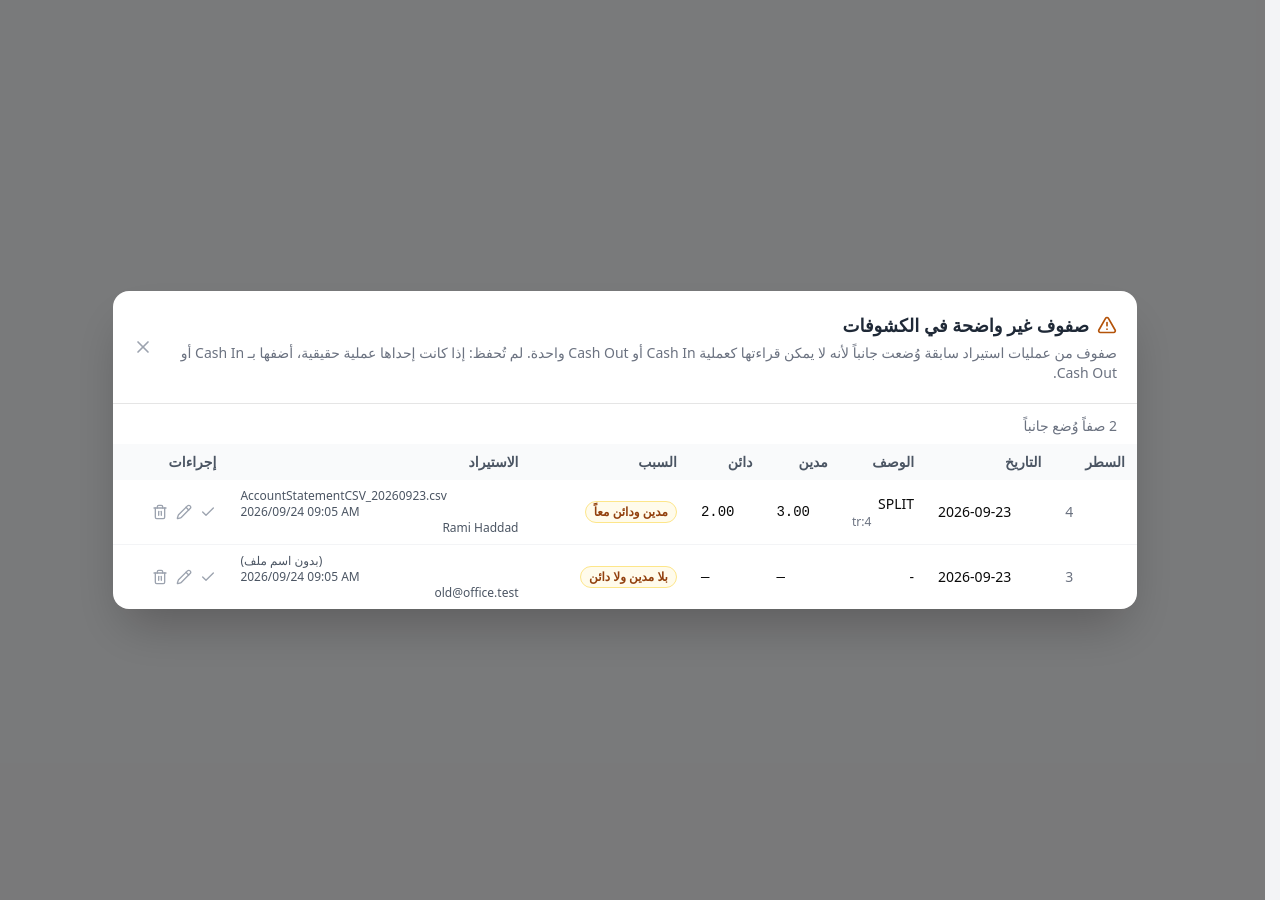
it: row actions: accept as is, discard, or correct and add (user's request, 2026-09-29) › accept as is: an inline confirmation, then it's saved as printed (the larger of debit/credit wins) and the row is gone
Expected: the number of rows with test id "ambiguous-row" is 2, [113,480,1137,544]; [113,544,1137,609]
What coordinates should you click on to do the following:
click the button with test id "ambiguous-accept" in the row of "SPLIT"
I would click on:
 (208, 512)
Its box is [200,504,216,520].
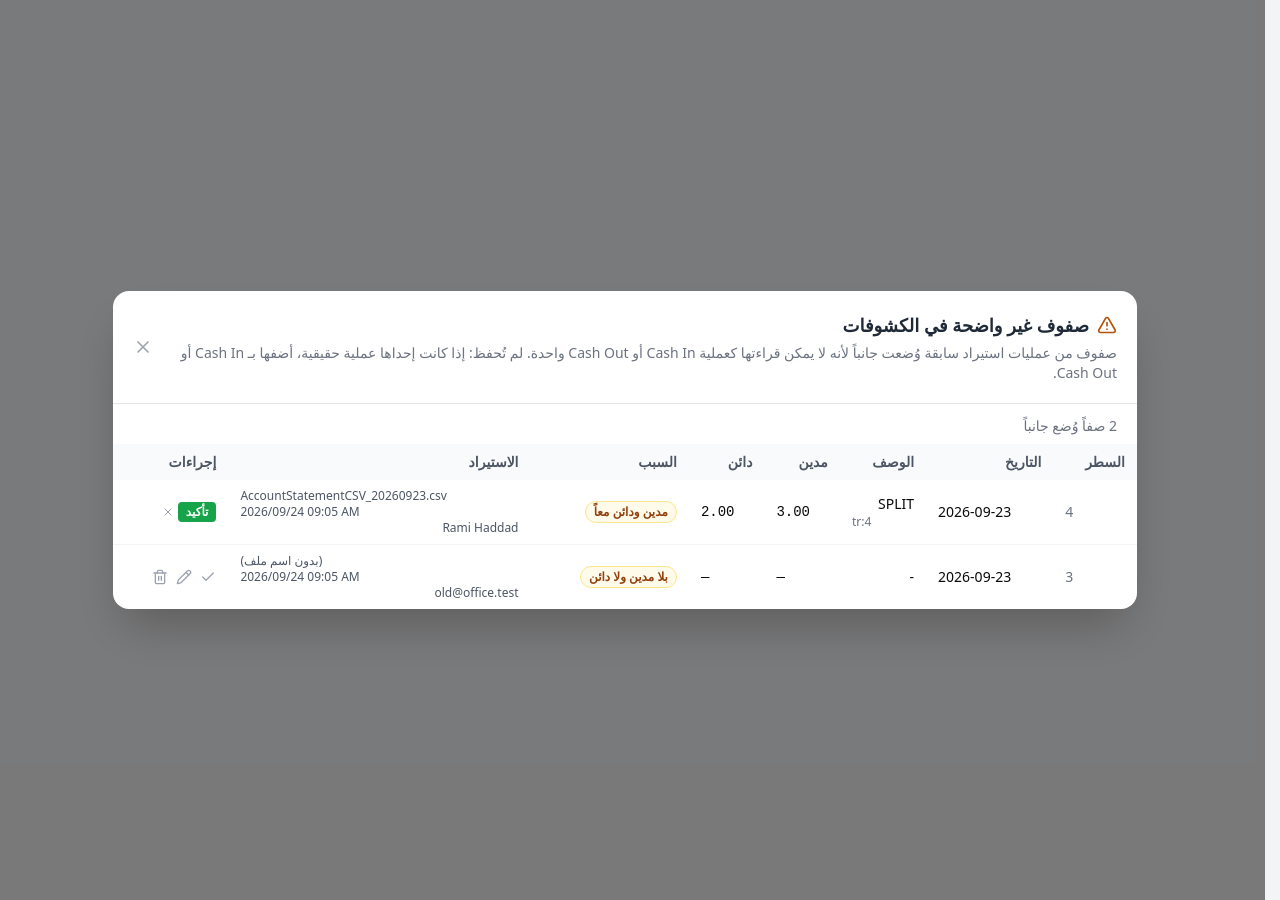
What coordinates should you click on to do the following:
click the button with test id "ambiguous-accept-confirm"
I would click on:
 (197, 512)
Its box is [178,502,216,522].
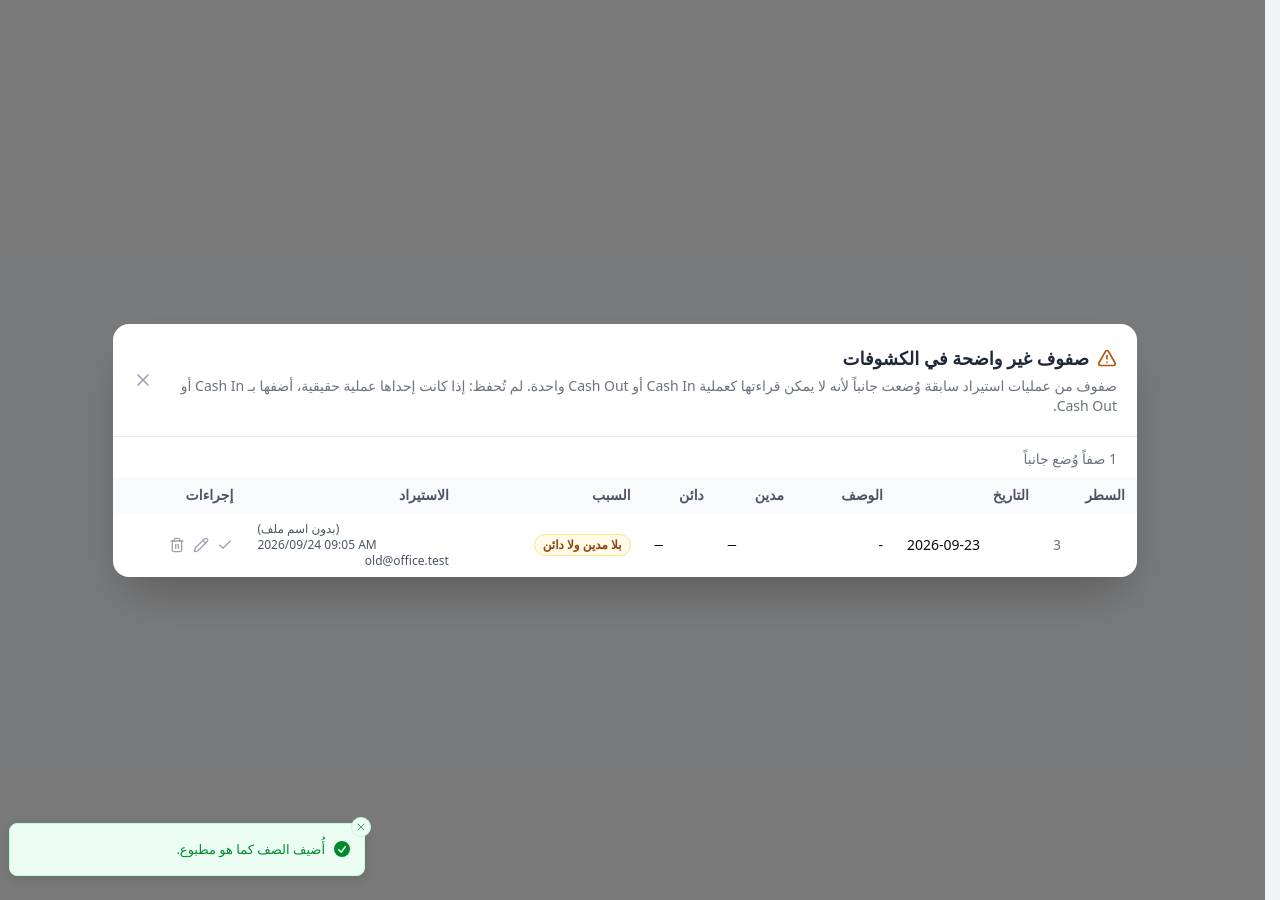
Now the number of rows with test id "ambiguous-row" is 1, box [113,512,1137,576]
